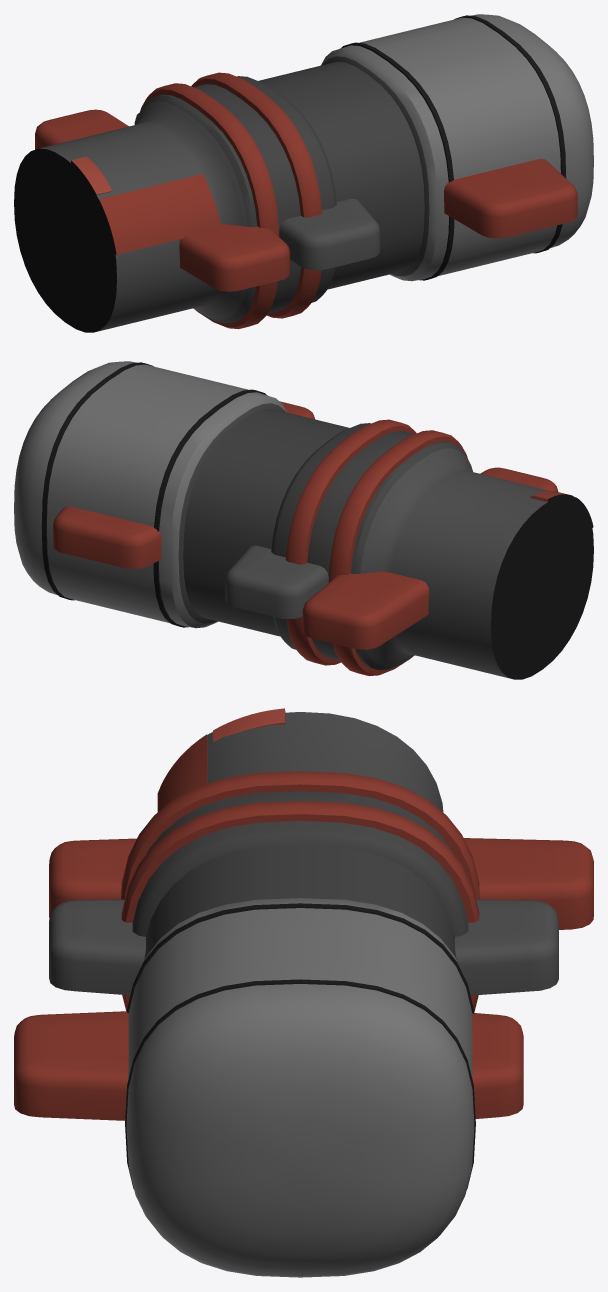
File: longship_right.glb
3 renders of one model, top to bottom at view 1: azimuth 30°, elevation 25°; view 2: azimuth 150°, elevation 25°; view 3: azimuth 270°, elevation 25°, orthographic. The views are drawn at different scales.
Parts seen in each view (by area): view 1: beam.001, pod_fin_f_r.001, band_lower.001, housing_tip_f_r.001, housing_fin_f_r.001, ring-11.001, ring-10.001, housing_tip_r_r.001, pod_seam-11.001, pod_seam-10.001, band_upper.001; view 2: beam.001, housing_tip_r_r.001, housing_fin_r_r.001, pod_fin_r_r.001, ring-10.001, ring-11.001, pod_seam-10.001, pod_seam-11.001, housing_tip_f_r.001; view 3: beam.001, pod_fin_f_r.001, ring-10.001, housing_fin_r_r.001, ring-11.001, housing_tip_r_r.001, housing_fin_f_r.001, pod_fin_r_r.001, housing_tip_f_r.001, pod_seam-10.001, pod_seam-11.001, band_lower.001 (+1 smaller).
Part boxes in pixels (x1=…): beam.001: x1=14, y1=14, x2=593, y2=332; pod_fin_f_r.001: x1=444, y1=159, x2=577, y2=238; band_lower.001: x1=95, y1=174, x2=221, y2=254; housing_tip_f_r.001: x1=179, y1=224, x2=289, y2=291; housing_fin_f_r.001: x1=279, y1=198, x2=380, y2=270; ring-11.001: x1=140, y1=83, x2=279, y2=329; ring-10.001: x1=191, y1=72, x2=322, y2=318; housing_tip_r_r.001: x1=35, y1=109, x2=128, y2=149; pod_seam-11.001: x1=340, y1=42, x2=454, y2=280; pod_seam-10.001: x1=454, y1=15, x2=566, y2=253; band_upper.001: x1=70, y1=156, x2=112, y2=199; beam.001: x1=14, y1=361, x2=593, y2=679; housing_tip_r_r.001: x1=302, y1=571, x2=429, y2=649; housing_fin_r_r.001: x1=225, y1=545, x2=328, y2=618; pod_fin_r_r.001: x1=53, y1=506, x2=161, y2=568; ring-10.001: x1=285, y1=419, x2=416, y2=665; ring-11.001: x1=328, y1=430, x2=467, y2=676; pod_seam-10.001: x1=41, y1=362, x2=153, y2=600; pod_seam-11.001: x1=153, y1=389, x2=267, y2=627; housing_tip_f_r.001: x1=480, y1=467, x2=558, y2=491; beam.001: x1=126, y1=712, x2=474, y2=1277; pod_fin_f_r.001: x1=14, y1=1011, x2=128, y2=1120; ring-10.001: x1=121, y1=801, x2=479, y2=1012; housing_fin_r_r.001: x1=455, y1=899, x2=558, y2=995; ring-11.001: x1=121, y1=771, x2=479, y2=899; housing_tip_r_r.001: x1=464, y1=838, x2=593, y2=929; housing_fin_f_r.001: x1=49, y1=899, x2=145, y2=995; pod_fin_r_r.001: x1=472, y1=1013, x2=523, y2=1118; housing_tip_f_r.001: x1=49, y1=838, x2=136, y2=918; pod_seam-10.001: x1=125, y1=979, x2=475, y2=1189; pod_seam-11.001: x1=127, y1=903, x2=473, y2=1013; band_lower.001: x1=157, y1=734, x2=207, y2=811.
Bounding box in the file's own units: 22.69 × 9.3 × 16.5.
